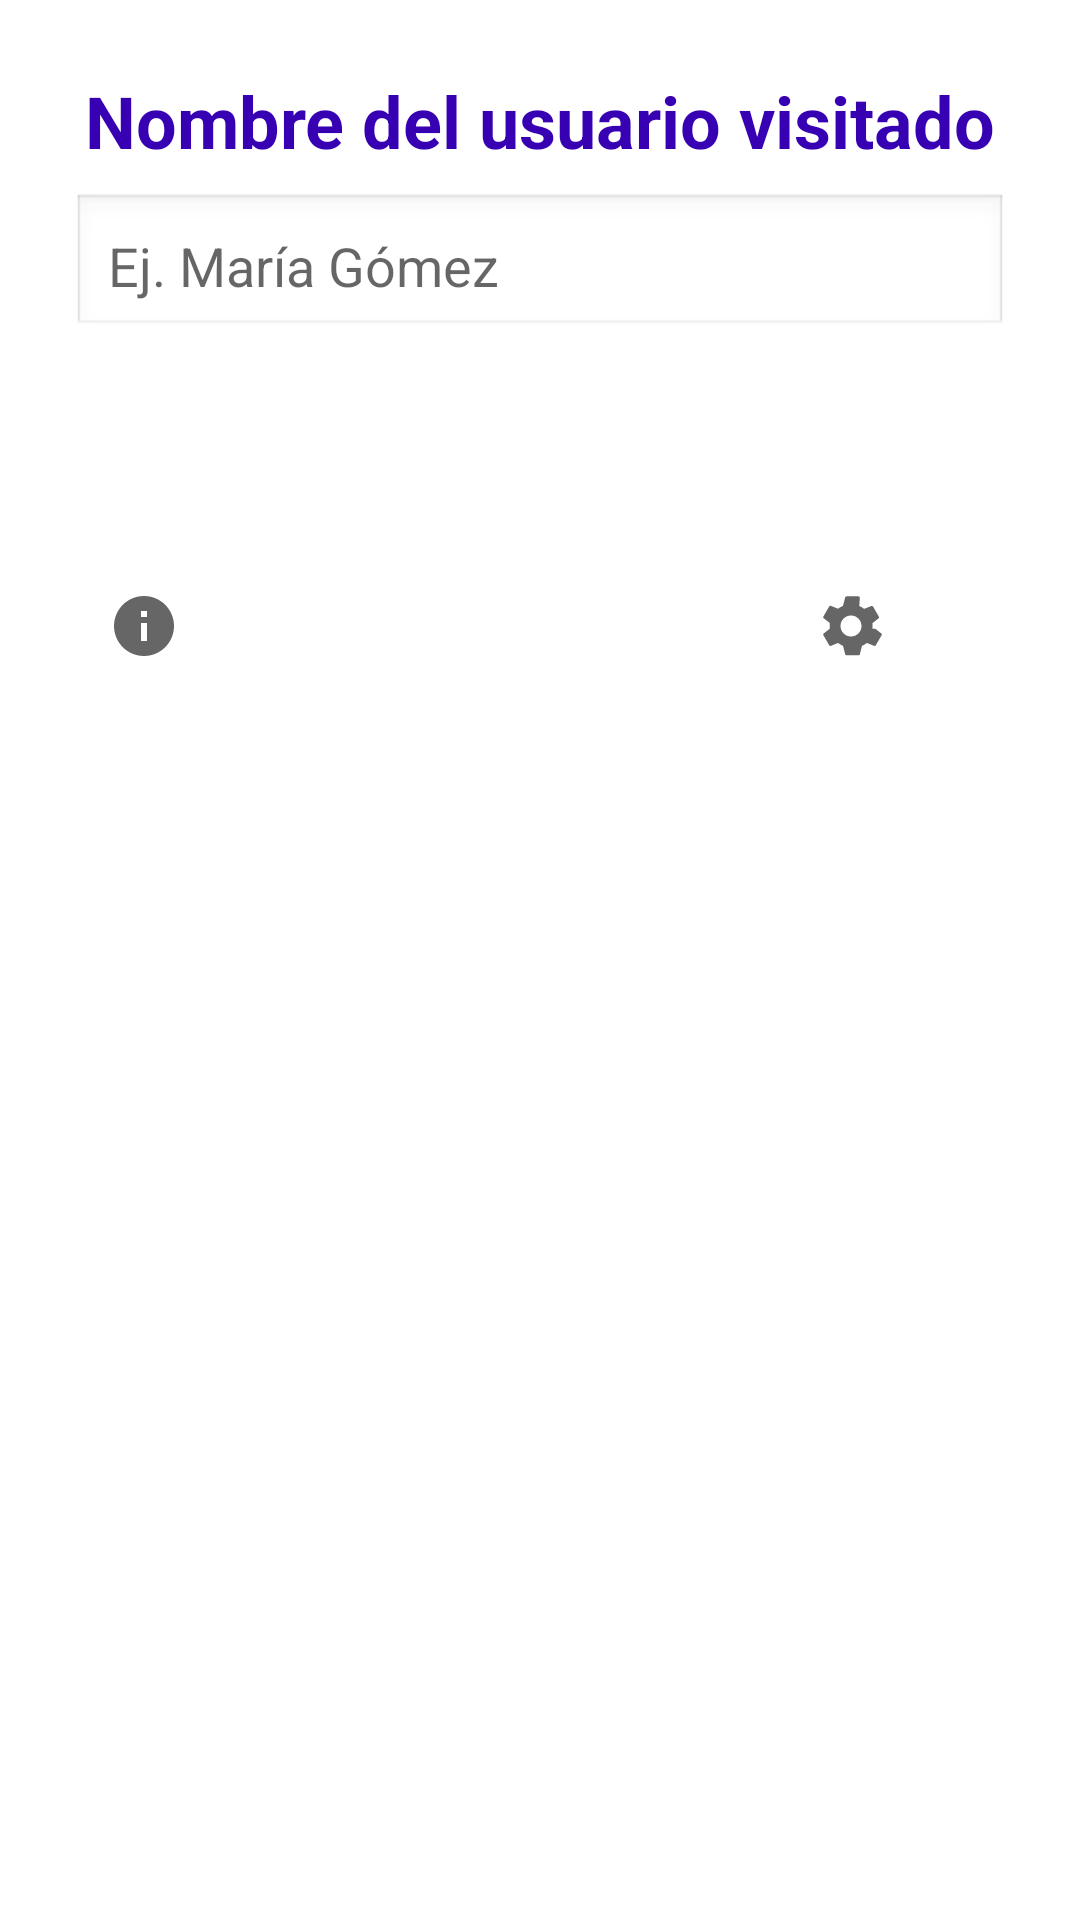

Screen size 1080px×1920px. Icon name, then its box in pixels as (x1, y1, x2, y2):
Ajustes: (823, 596, 882, 656)
Créditos: (114, 596, 174, 656)
